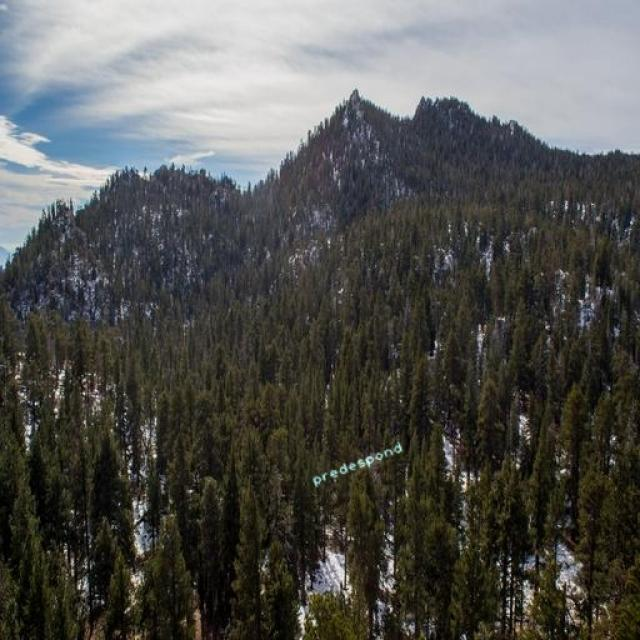watermark: (310, 439, 404, 487)
